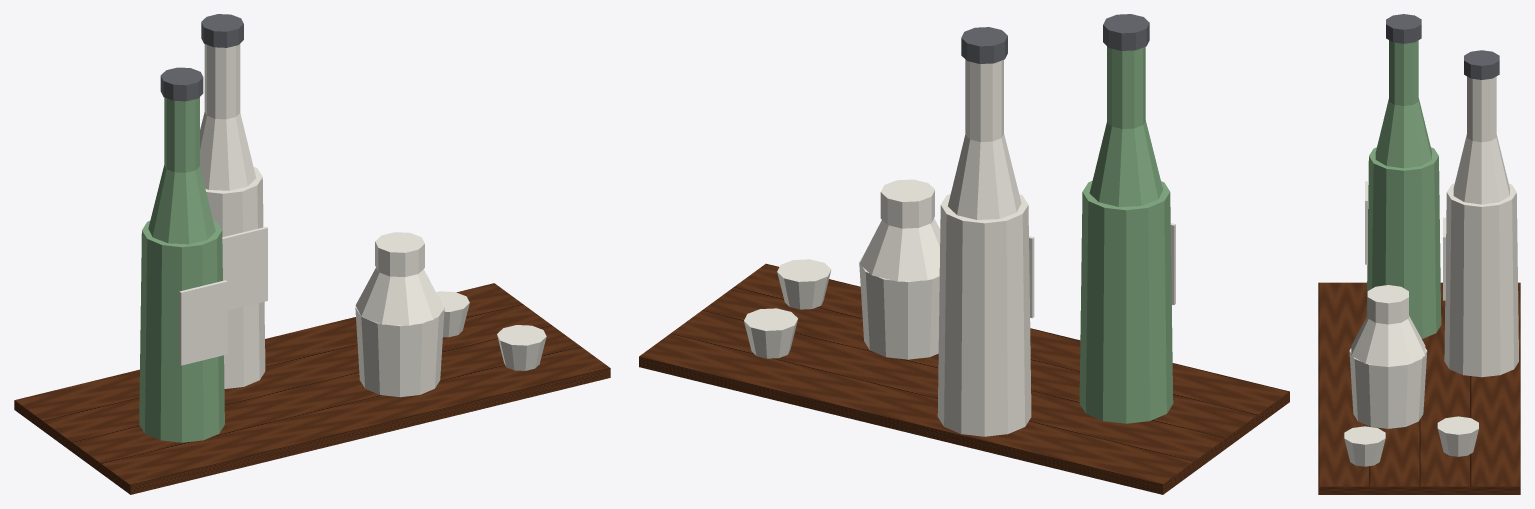
The model's file is sake_bottle_and_tokkuri_set.glb.
3 views of the same model, side by side, from view 1: azimuth 30°, elevation 25°; view 2: azimuth 150°, elevation 25°; view 3: azimuth 270°, elevation 25° (orthographic). The views are drawn at different scales.
Parts seen in each view (by area): view 1: sake-bottle-set-darkwood, sake-bottle-set-cream, sake-bottle-set-leaf, sake-bottle-set-charcoal; view 2: sake-bottle-set-darkwood, sake-bottle-set-cream, sake-bottle-set-leaf, sake-bottle-set-charcoal; view 3: sake-bottle-set-cream, sake-bottle-set-darkwood, sake-bottle-set-leaf, sake-bottle-set-charcoal.
Part boxes in pixels (left/top/right/bottom): sake-bottle-set-darkwood: left=14, top=283, right=610, bottom=494; sake-bottle-set-cream: left=179, top=44, right=546, bottom=397; sake-bottle-set-leaf: left=139, top=97, right=224, bottom=442; sake-bottle-set-charcoal: left=160, top=14, right=243, bottom=101; sake-bottle-set-darkwood: left=639, top=263, right=1289, bottom=494; sake-bottle-set-cream: left=744, top=59, right=1175, bottom=436; sake-bottle-set-leaf: left=1079, top=46, right=1173, bottom=423; sake-bottle-set-charcoal: left=961, top=14, right=1149, bottom=63; sake-bottle-set-cream: left=1344, top=76, right=1518, bottom=466; sake-bottle-set-darkwood: left=1318, top=282, right=1520, bottom=494; sake-bottle-set-leaf: left=1366, top=40, right=1441, bottom=338; sake-bottle-set-charcoal: left=1386, top=14, right=1499, bottom=79.
Size of the model in its own units: 0.62 by 0.442 by 0.26.
Materials: 5 (1 with a texture image).
